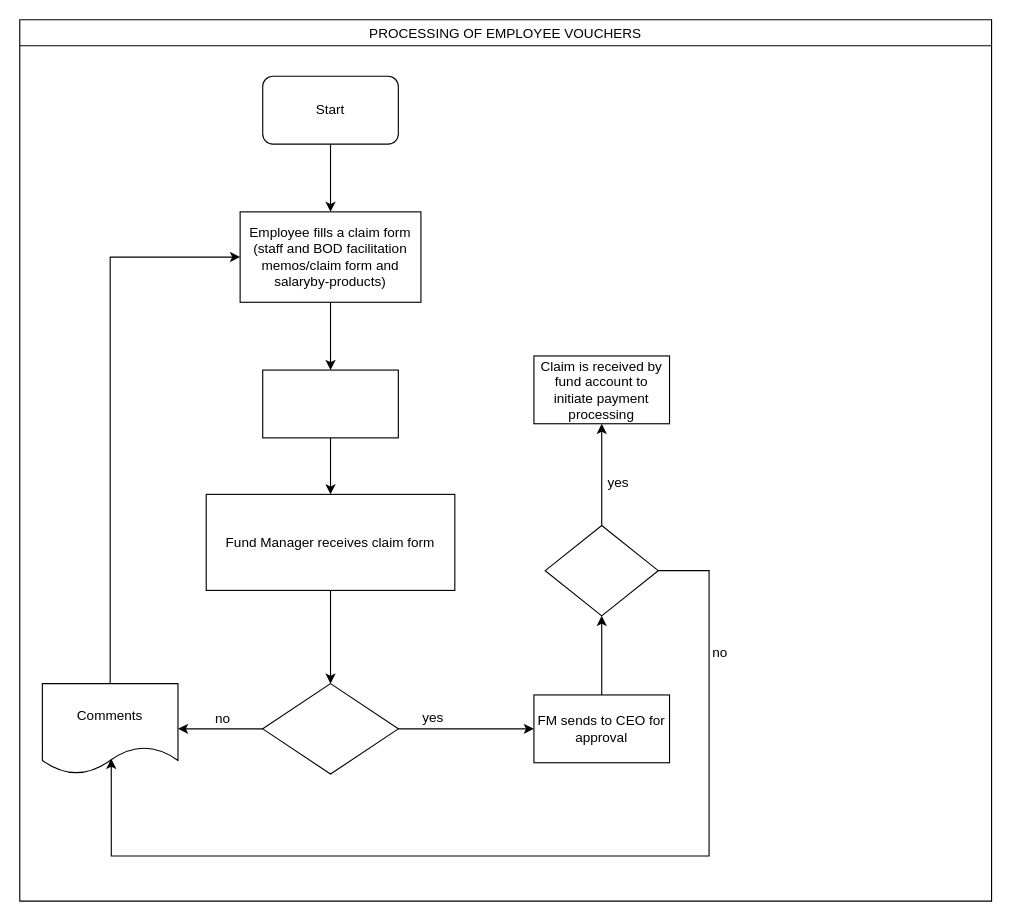
Some shapes in this 1011 by 921 pixel diagram are drawn without their labels. Here are the shapes that lost their labels. From the top down, the centre of each, then its label:
At point (330, 403): "HoD/ relevant AIE holder approves the claim form".
At point (601, 570): "Approved by CEO?".
At point (330, 728): "Approved by FM?".
